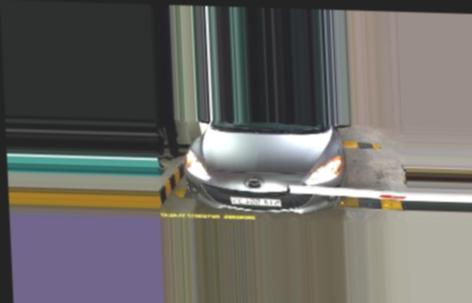License_Plate: (230, 195, 282, 210)
